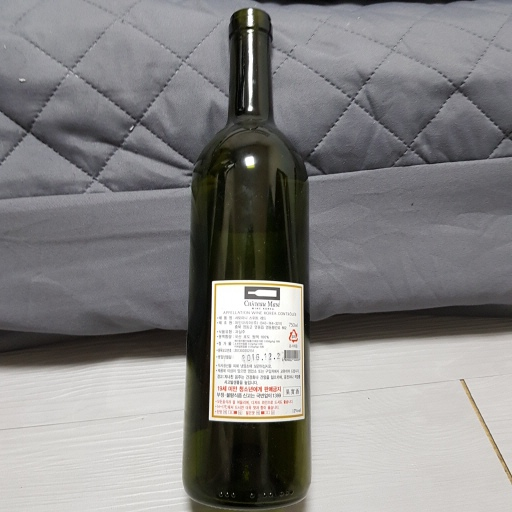Glass_2: (183, 8, 315, 509)
